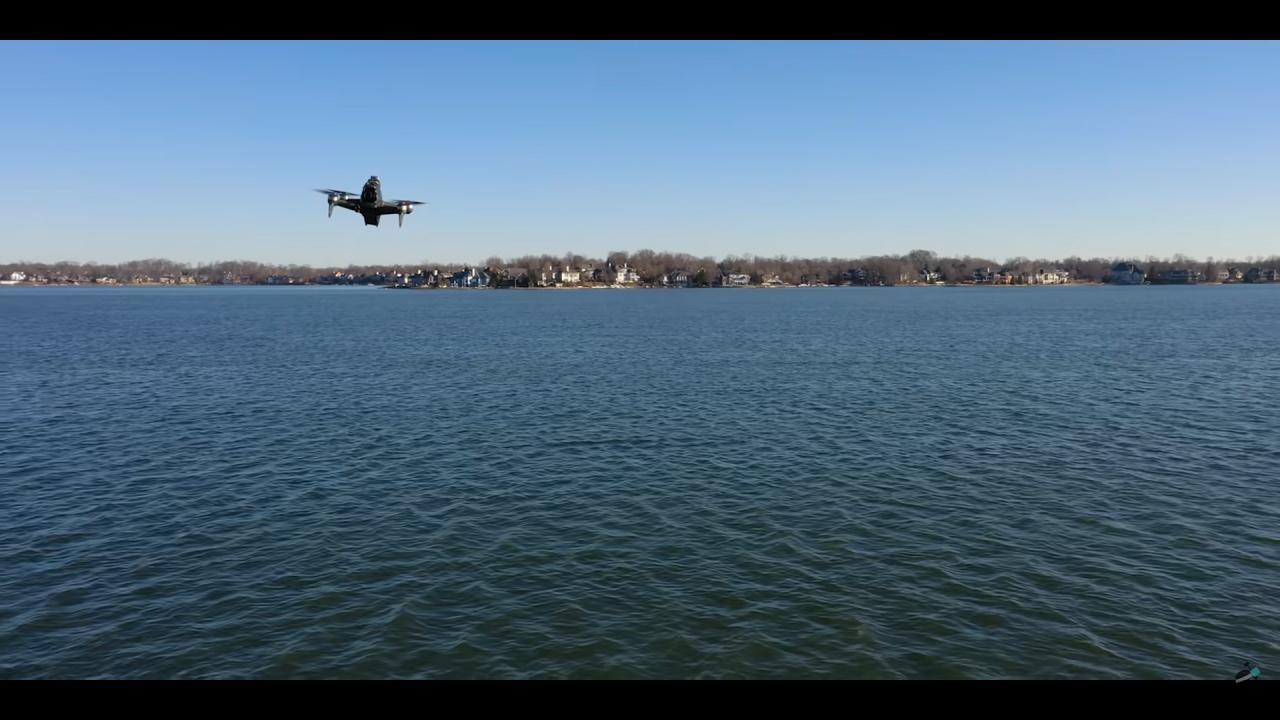Drone: (304, 163, 438, 239)
